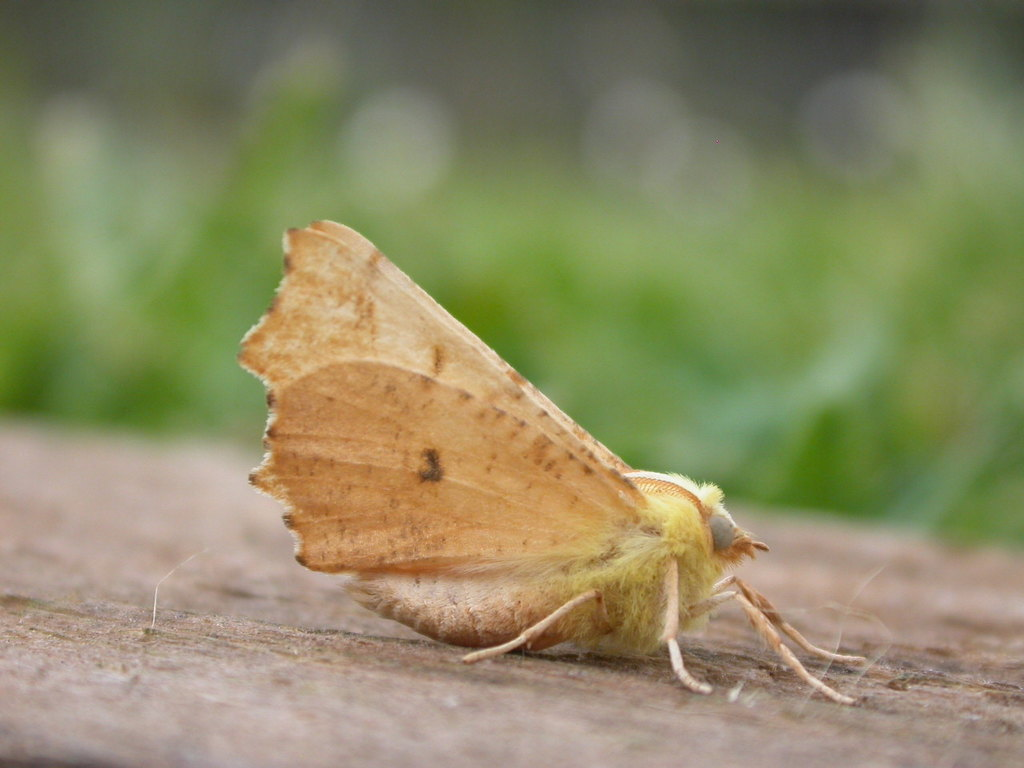Butterfly: (226, 188, 889, 720)
